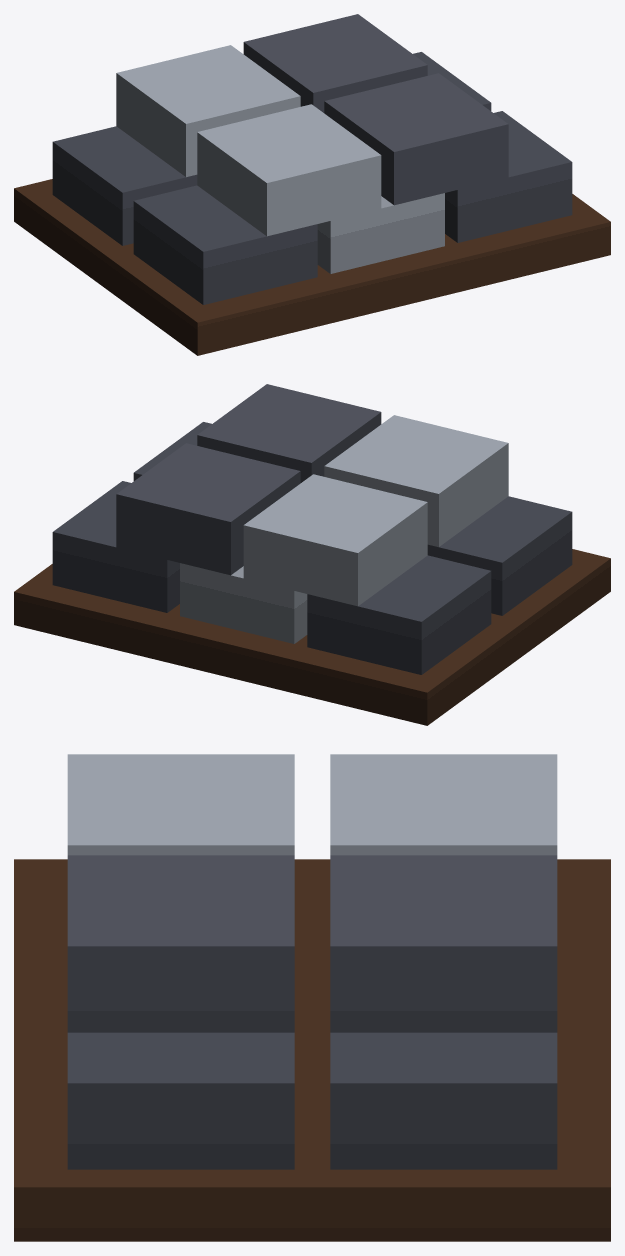
File: iron_stockpile.glb
3 views of the same model, one above another, from view 1: azimuth 30°, elevation 25°; view 2: azimuth 150°, elevation 25°; view 3: azimuth 270°, elevation 25° (orthographic). The views are drawn at different scales.
Size of the model in its own units: 1.3 by 0.42 by 1.
1 material, 1 textured.
